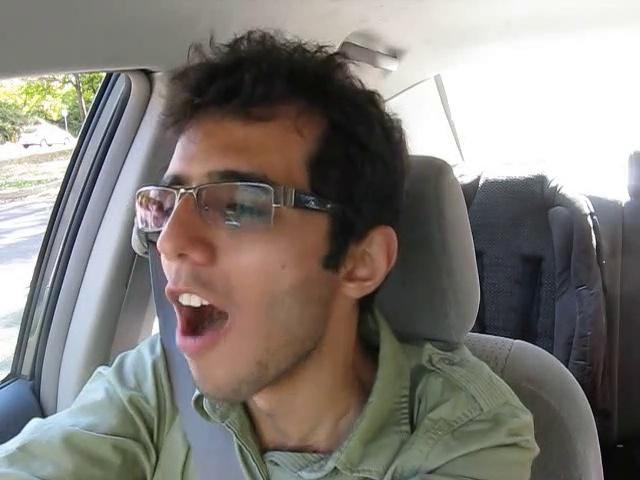open_eyeL: (146, 181, 194, 232)
open_eyeR: (208, 192, 286, 237)
yawn: (154, 289, 247, 355)
